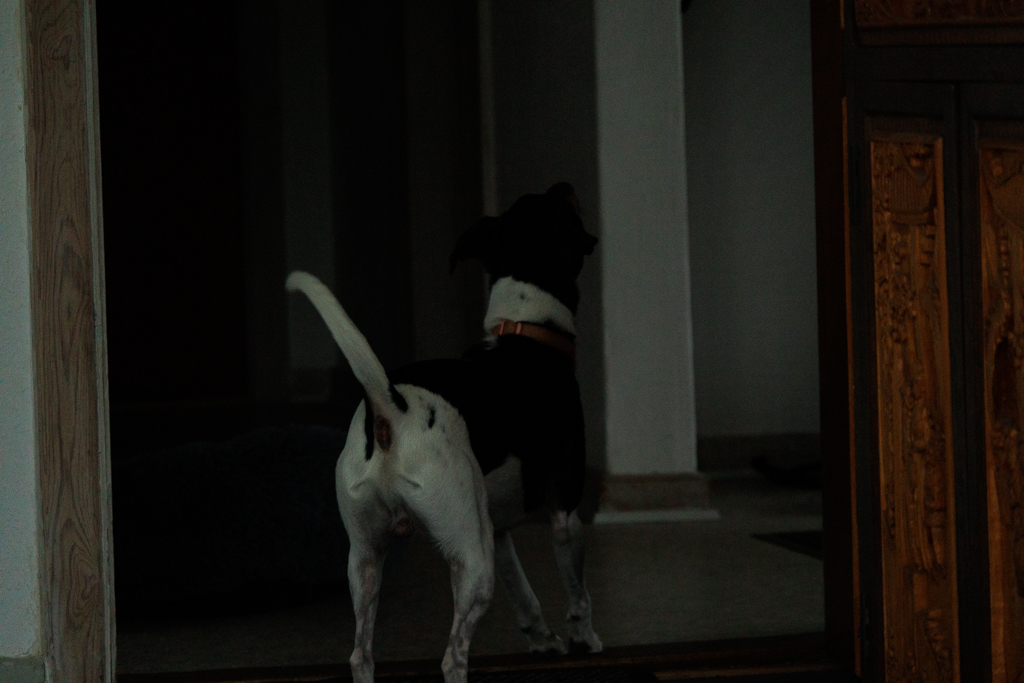Dog: (273, 173, 624, 683)
